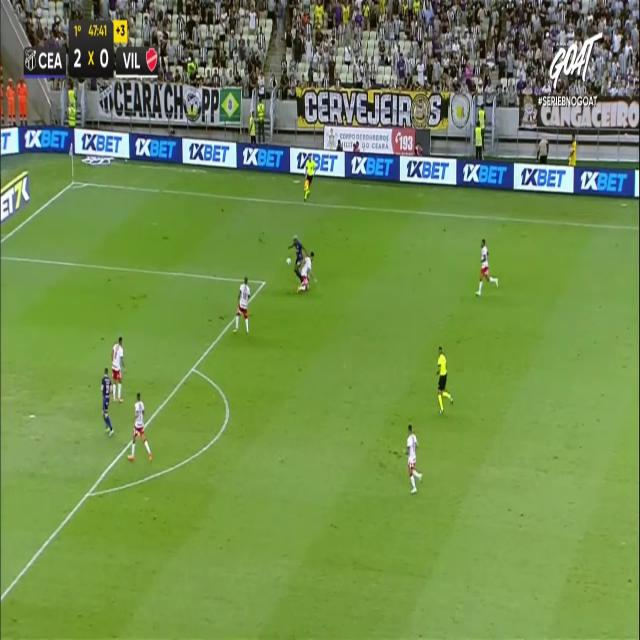ball: (285, 257, 293, 266)
player: (127, 391, 152, 461), (475, 237, 499, 296), (406, 423, 423, 493), (232, 276, 250, 334), (100, 366, 114, 436), (287, 234, 307, 281), (111, 336, 125, 403), (296, 250, 316, 292)
referee: (436, 345, 454, 413), (302, 153, 316, 202)
